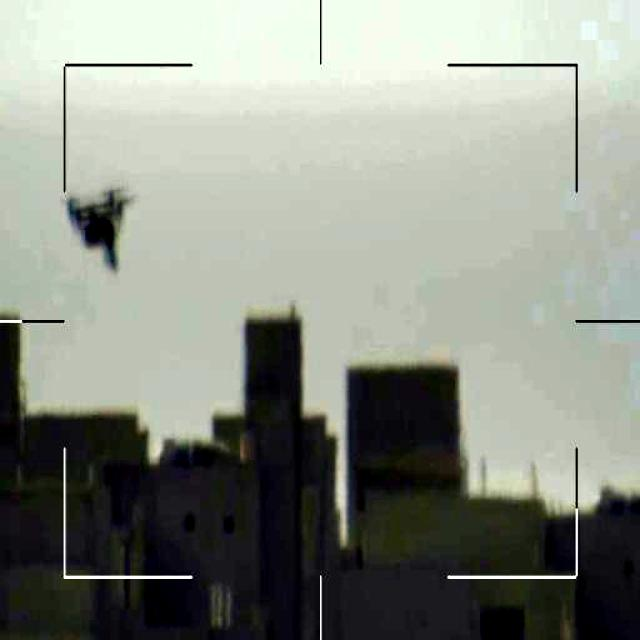bird: (62, 184, 132, 272)
